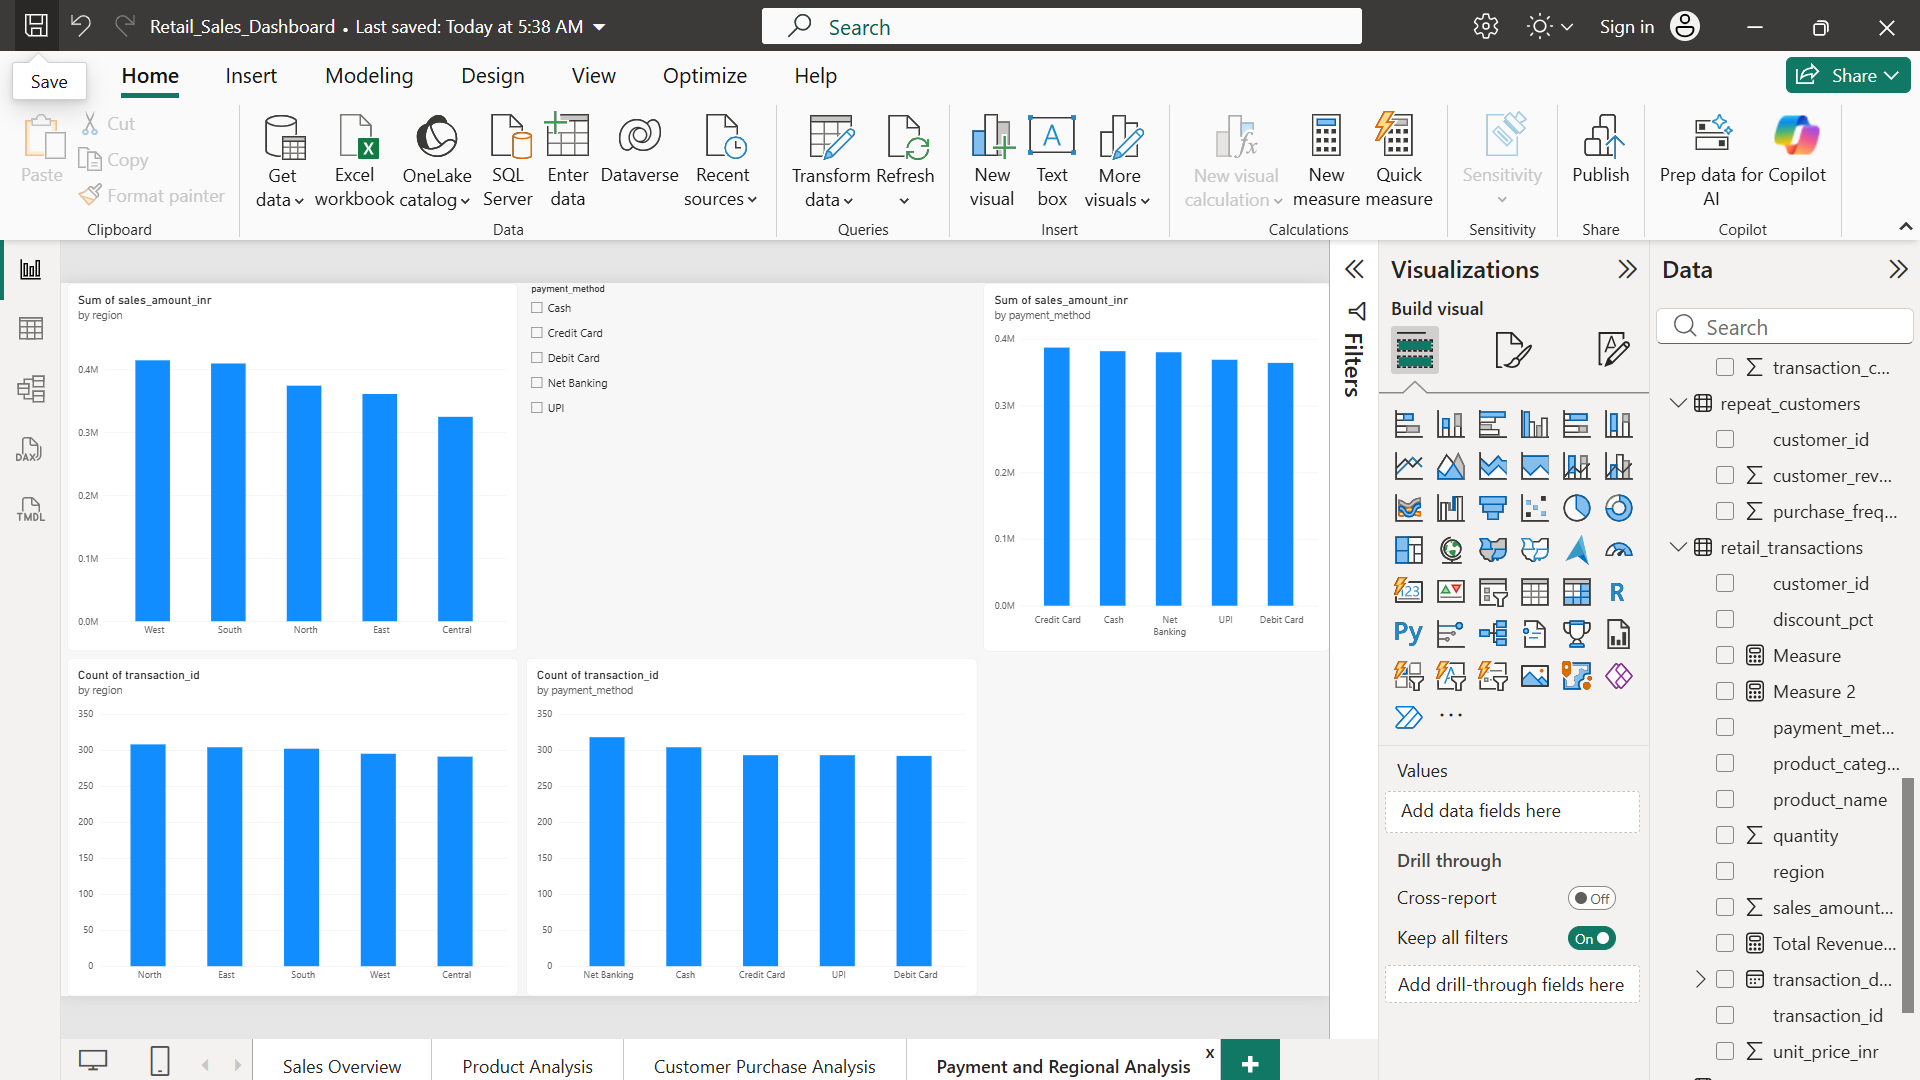

What the dashboard file says about the page in this screenshot:
{"tool":"powerbi","page":{"name":"Payment and Regional Analysis","canvas":[1920,1080],"ordinal":3},"visuals":[{"type":"clusteredColumnChart","fields":{"Category":["retail_transactions.region"],"Y":["Sum(retail_transactions.sales_amount_inr)"]},"box":[9.1,0,901.7,556.5],"z":0},{"type":"slicer","fields":{"Values":["retail_transactions.payment_method"]},"box":[1721.7,465.6,197.6,227.1],"z":1000},{"type":"clusteredColumnChart","fields":{"Category":["payment_preferences.payment_method"],"Y":["CountNonNull(retail_transactions.transaction_id)"]},"box":[910.8,558.7,810.9,492.9],"z":2000},{"type":"clusteredColumnChart","fields":{"Category":["regional_distribution.region"],"Y":["CountNonNull(retail_transactions.transaction_id)"]},"box":[9.1,556.5,901.7,522.4],"z":3000},{"type":"clusteredColumnChart","fields":{"Category":["retail_transactions.payment_method"],"Y":["Sum(retail_transactions.sales_amount_inr)"]},"box":[910.8,0,765.4,558.7],"z":4000}]}

Visuals, with their boxes on the page's 1920x1080 design canvas (x1, y1, x2, y2). These are canvas units, not pixel positions in the 1920x1080 screenshot, which may show the page scaled, cropped or inside an application window:
clusteredColumnChart - retail_transactions.region x Sum(retail_transactions.sales_amount_inr): bbox=(9, 0, 911, 556)
slicer - retail_transactions.payment_method: bbox=(1722, 466, 1919, 693)
clusteredColumnChart - payment_preferences.payment_method x CountNonNull(retail_transactions.transaction_id): bbox=(911, 559, 1722, 1052)
clusteredColumnChart - regional_distribution.region x CountNonNull(retail_transactions.transaction_id): bbox=(9, 556, 911, 1079)
clusteredColumnChart - retail_transactions.payment_method x Sum(retail_transactions.sales_amount_inr): bbox=(911, 0, 1676, 559)
